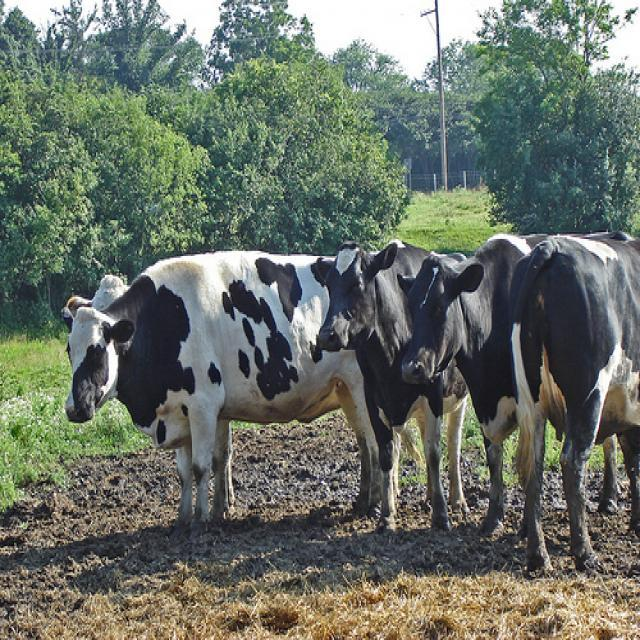cow: (53, 246, 382, 534), (394, 226, 639, 540), (315, 237, 468, 533), (513, 237, 639, 582), (61, 255, 167, 318)
